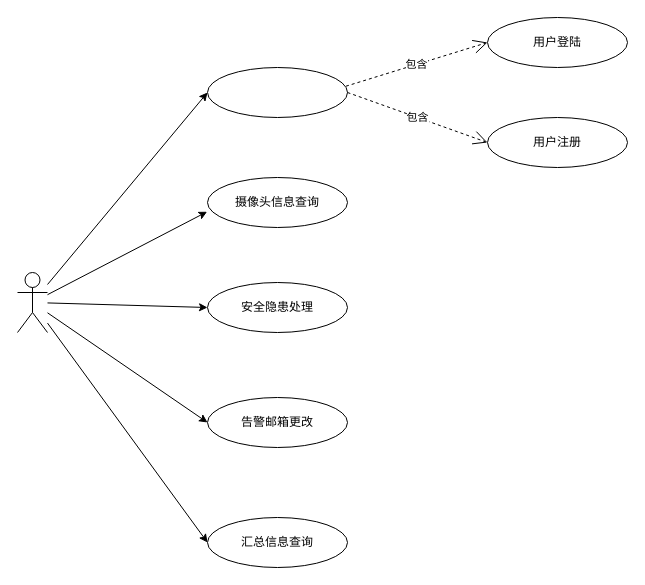
This 645x585 diagram has some shape labels left out. Each missing label, with the centre of its shape:
"用户" goes at (x=32, y=302).
"账户管理" goes at (x=277, y=92).
